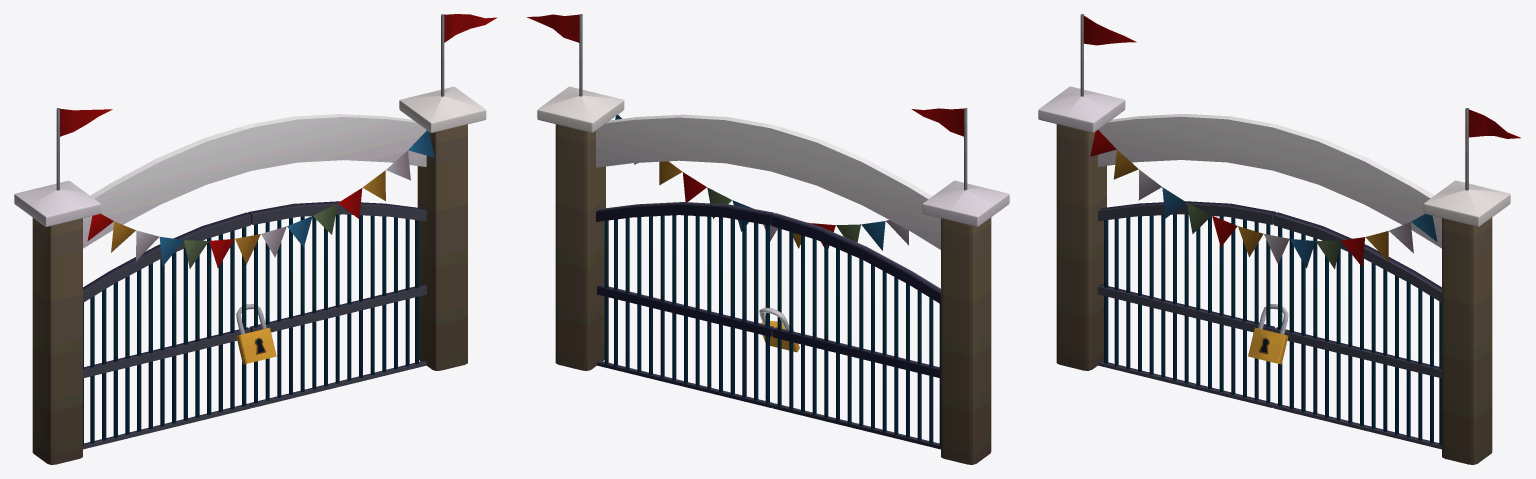
The model's file is SM_Carnival_Gate.fbx.
3 views of the same model, side by side, from view 1: azimuth 30°, elevation 25°; view 2: azimuth 150°, elevation 25°; view 3: azimuth 330°, elevation 25° (orthographic).
Visible parts, largest first — view 1: Carnival_Gate_Unity_Export; view 2: Carnival_Gate_Unity_Export; view 3: Carnival_Gate_Unity_Export.
Part boxes in pixels (box(x1,y1,x2,y2)): Carnival_Gate_Unity_Export: box(14, 14, 497, 464); Carnival_Gate_Unity_Export: box(526, 14, 1009, 464); Carnival_Gate_Unity_Export: box(1038, 14, 1520, 464).
Size of the model in its own units: 668 by 471 by 80.
